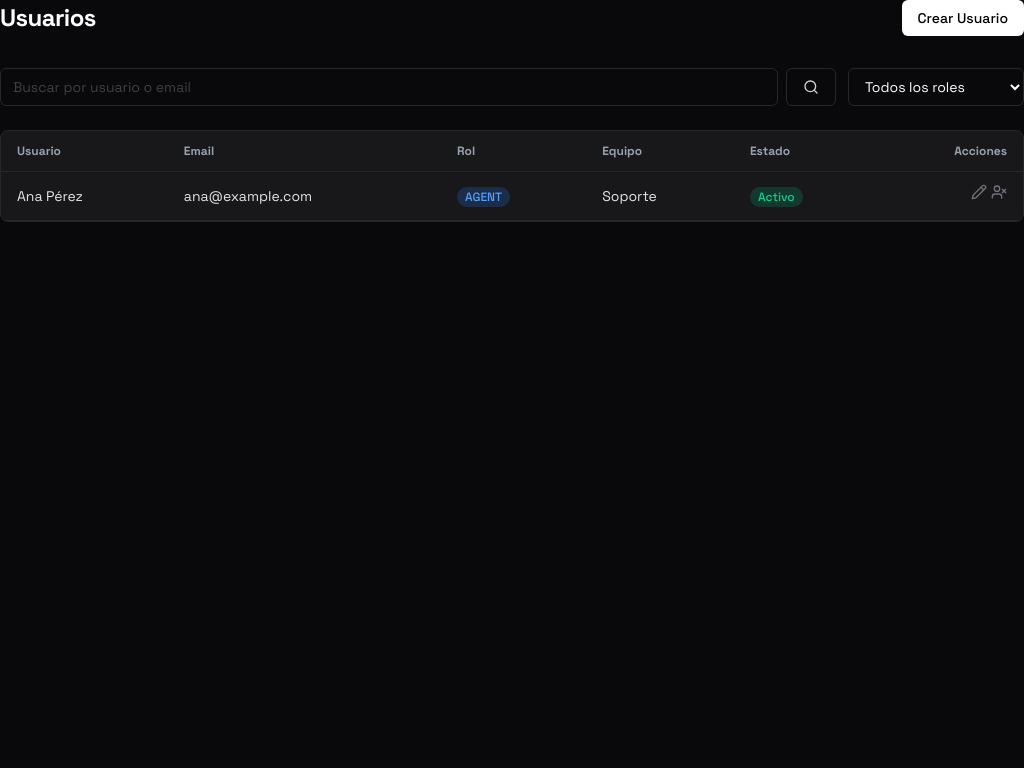
Test: UsersSection › desactiva un usuario tras confirmar
Click the button named "Desactivar usuario Ana Pérez".
click(999, 192)  # box [991, 184, 1007, 200]
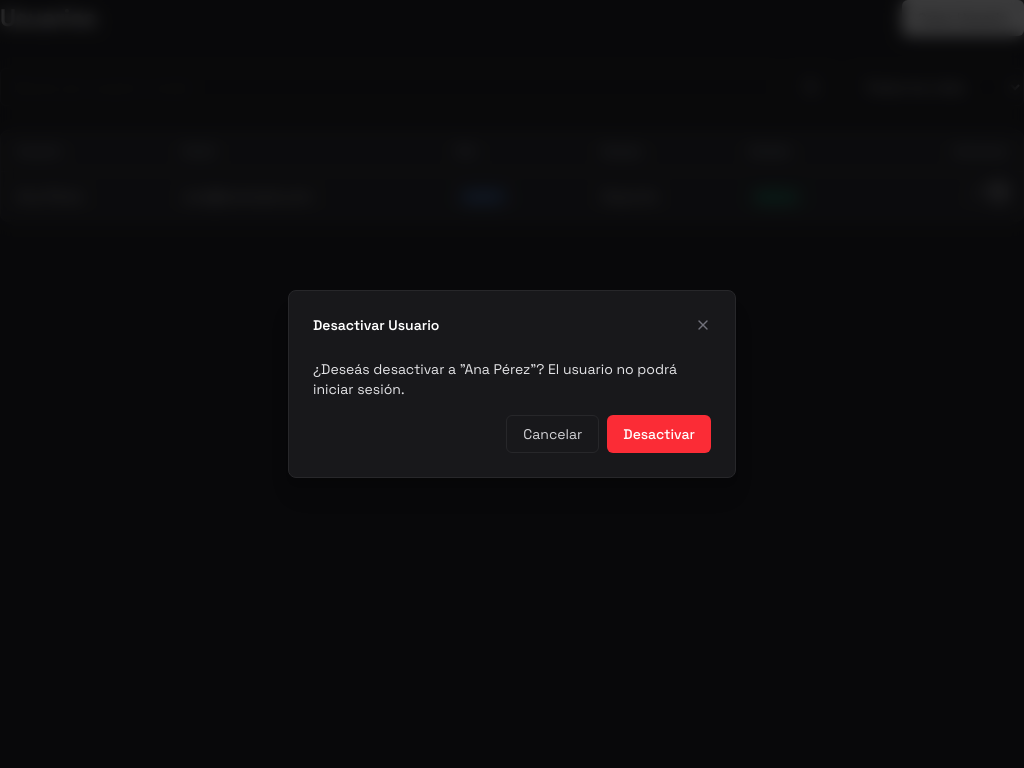
Now the text "¿Deseás desactivar a \"Ana Pérez\"? El usuario no podrá iniciar sesión." is shown, box [313, 359, 711, 399]
Click the button "Desactivar".
click(659, 434)  # box [607, 415, 711, 453]
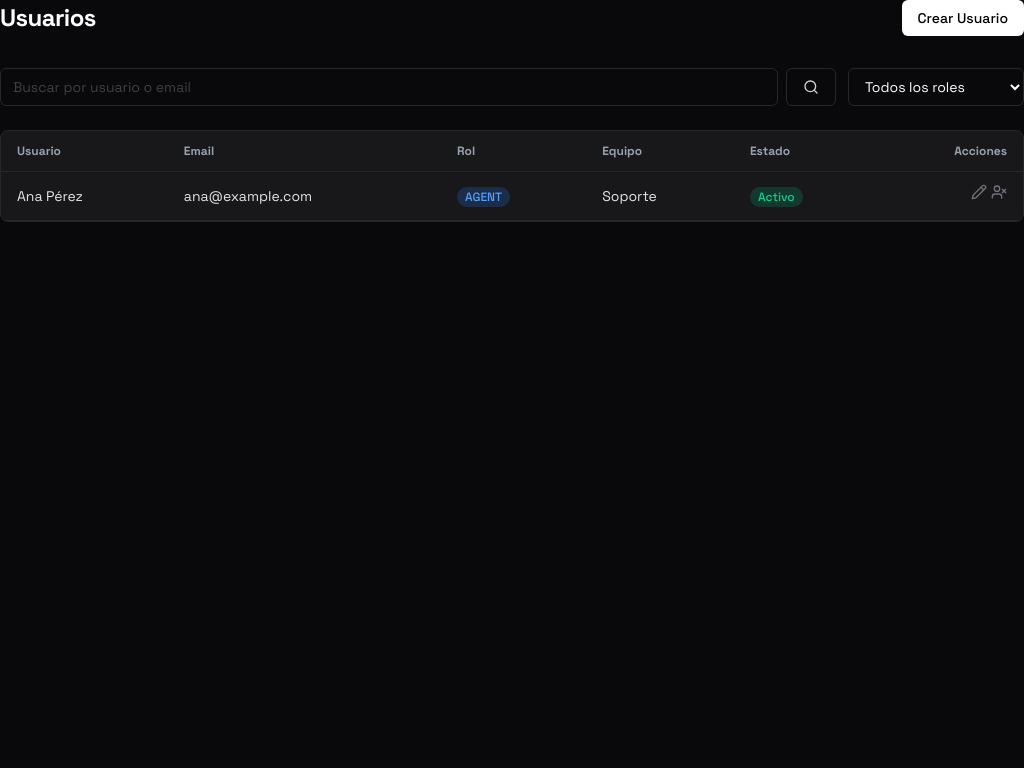
Now the heading "Desactivar Usuario" is gone
